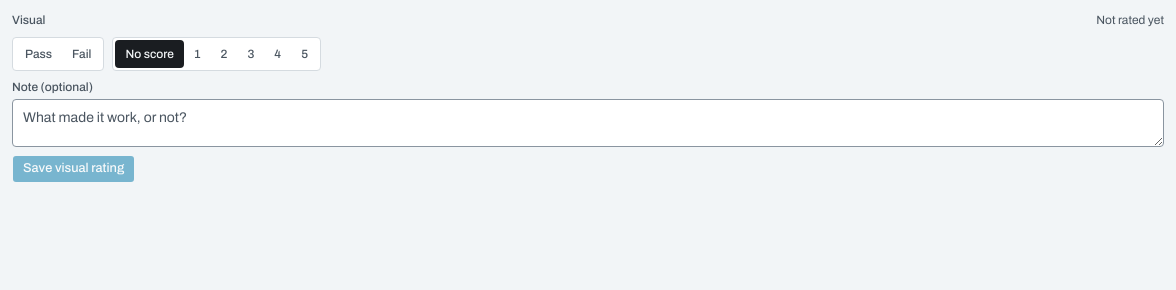
Test: RatingControl fail-reason chips › reveals the chips only once Fail is chosen
The image size is (1176, 290).
Check: the element "Why did it fail? (optional)" is not shown
Click the button "Fail" at (82, 54), box [62,40,101,68]
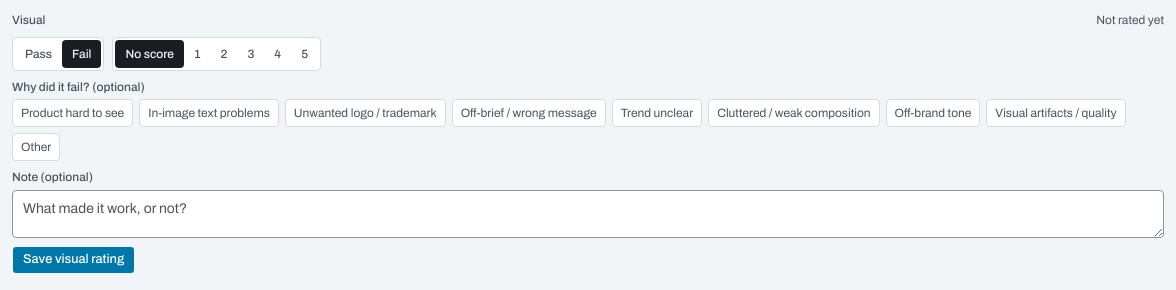
Check: the element "Why did it fail? (optional)" is shown, box [12,78,1164,169]
